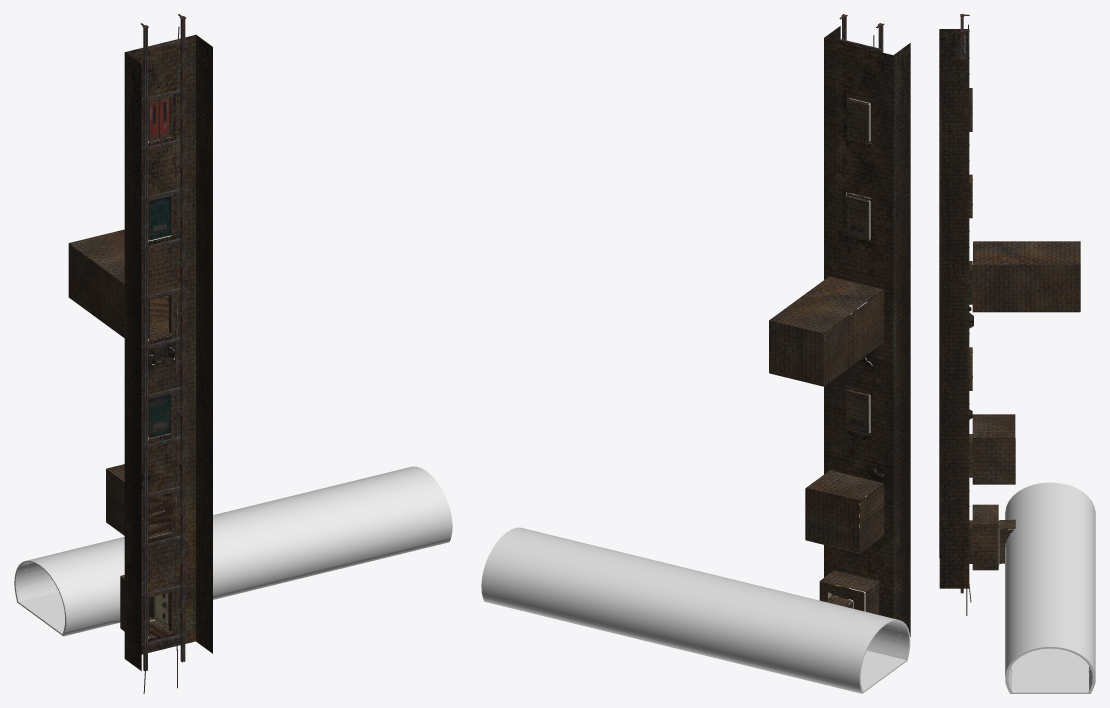
The model's file is Elevatorshaft.fbx.
3 views of the same model, side by side, from view 1: azimuth 30°, elevation 25°; view 2: azimuth 150°, elevation 25°; view 3: azimuth 270°, elevation 25° (orthographic). The views are drawn at different scales.
Parts seen in each view (by area): view 1: ElevatorShaft, Tunnel, ElevatorShaft_Beams, ElevatorShaft_Rope, ElevatorShaft_TopElevatorDoor, ElevatorShaft_ClosedDoor.001, ElevatorShaft_Boards, ElevatorShaft_ClosedDoor; view 2: ElevatorShaft, Tunnel; view 3: ElevatorShaft, Tunnel, ElevatorShaft_Beams.
Part boxes in pixels (left/top/right/bottom): ElevatorShaft: left=68, top=34, right=212, bottom=670; Tunnel: left=14, top=466, right=452, bottom=636; ElevatorShaft_Beams: left=140, top=14, right=186, bottom=671; ElevatorShaft_Rope: left=143, top=26, right=179, bottom=693; ElevatorShaft_TopElevatorDoor: left=148, top=97, right=170, bottom=140; ElevatorShaft_ClosedDoor.001: left=149, top=196, right=170, bottom=239; ElevatorShaft_Boards: left=148, top=496, right=175, bottom=535; ElevatorShaft_ClosedDoor: left=148, top=394, right=170, bottom=437; ElevatorShaft: left=769, top=26, right=910, bottom=636; Tunnel: left=481, top=527, right=910, bottom=693; ElevatorShaft: left=939, top=29, right=1080, bottom=588; Tunnel: left=1005, top=482, right=1095, bottom=693; ElevatorShaft_Beams: left=960, top=14, right=969, bottom=593.
Size of the model in its own units: 2720 by 4523 by 1095.
